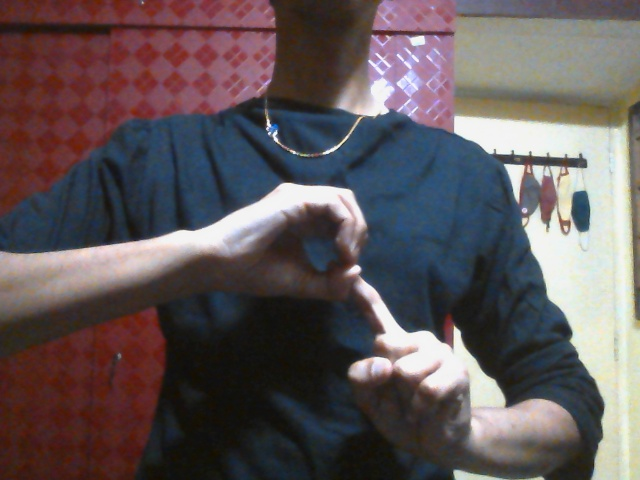Q: (218, 181, 471, 468)
